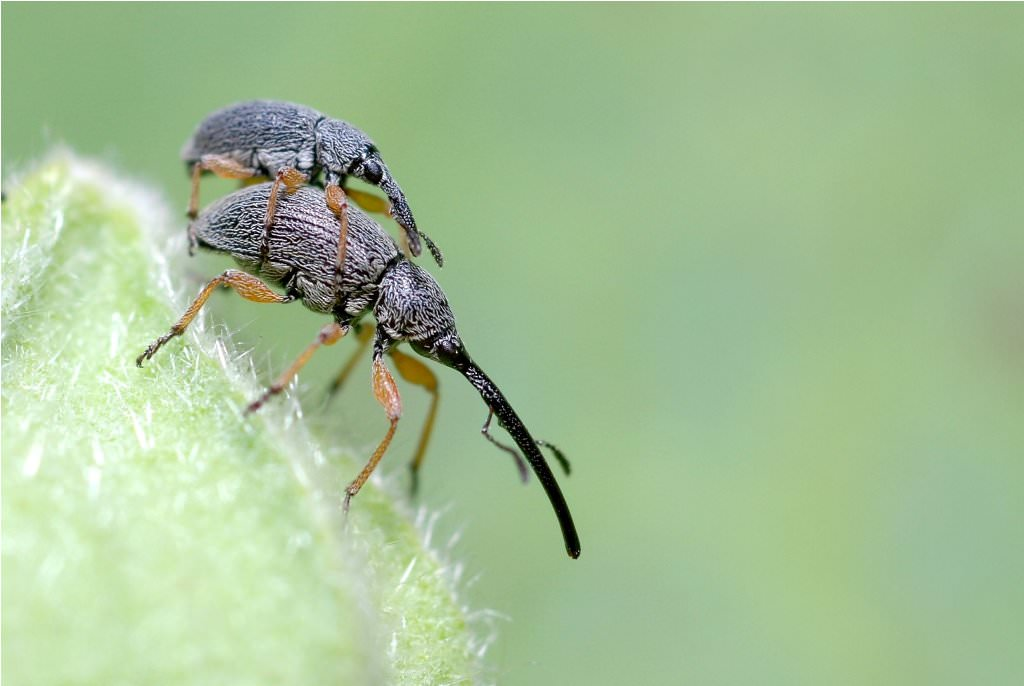dolgonosik: (126, 189, 612, 578), (171, 89, 469, 298)
